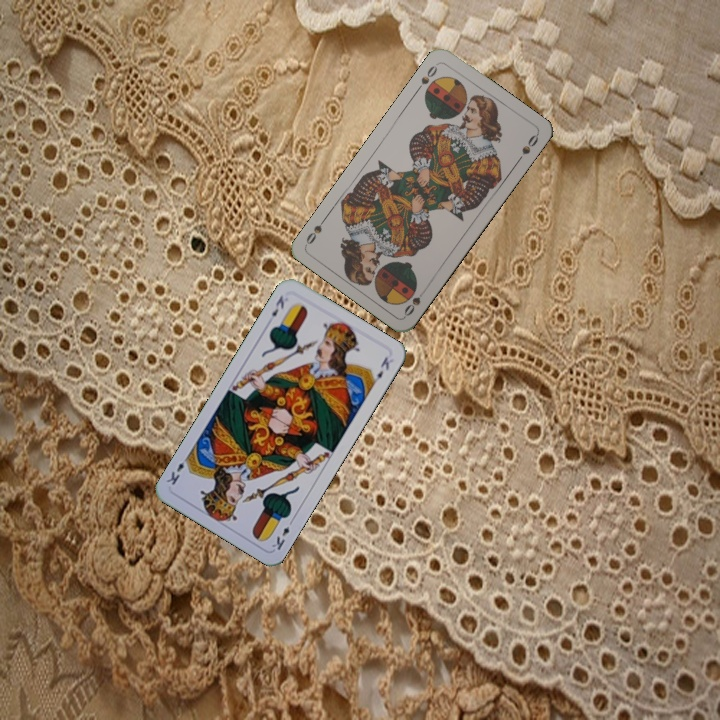EK: (268, 515, 296, 553), (267, 291, 287, 319)
SO: (400, 284, 430, 319), (412, 59, 441, 94)
